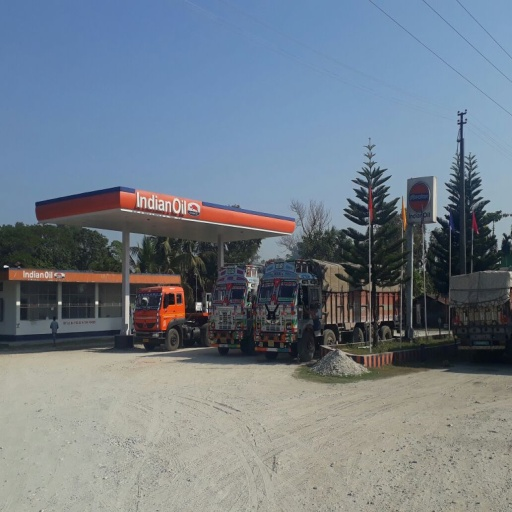roof: (35, 186, 294, 250)
